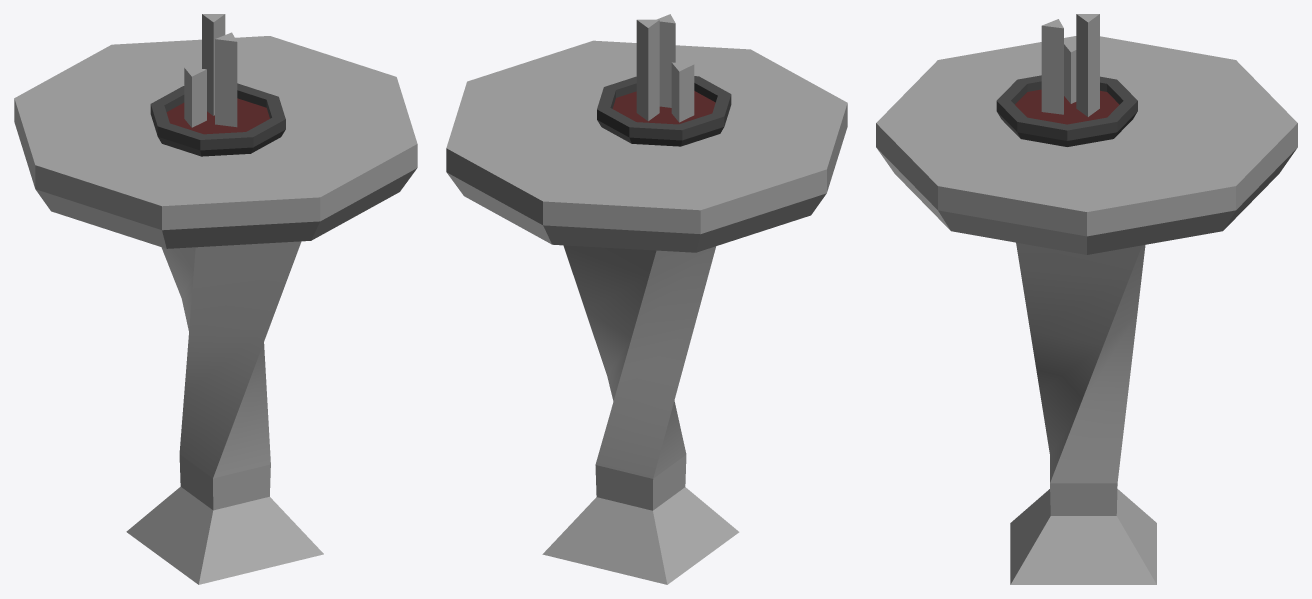
Rendered from Table.fbx.
3 views of the same model, side by side, from view 1: azimuth 30°, elevation 25°; view 2: azimuth 150°, elevation 25°; view 3: azimuth 270°, elevation 25° (orthographic).
Visible parts, largest first — view 1: pCylinder13; view 2: pCylinder13; view 3: pCylinder13.
Boxes of the visible parts, left/top/right/bottom form: pCylinder13: left=14, top=14, right=417, bottom=584; pCylinder13: left=446, top=14, right=847, bottom=584; pCylinder13: left=876, top=14, right=1297, bottom=584.
Size of the model in its own units: 1.09 by 1.52 by 1.09.
